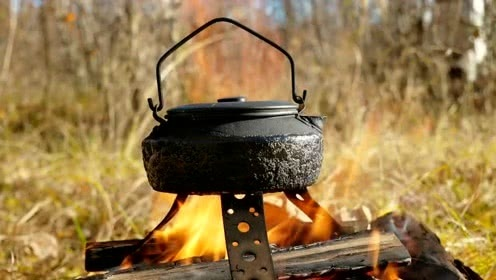fire: (154, 4, 294, 108), (149, 186, 326, 262), (364, 226, 401, 277)
